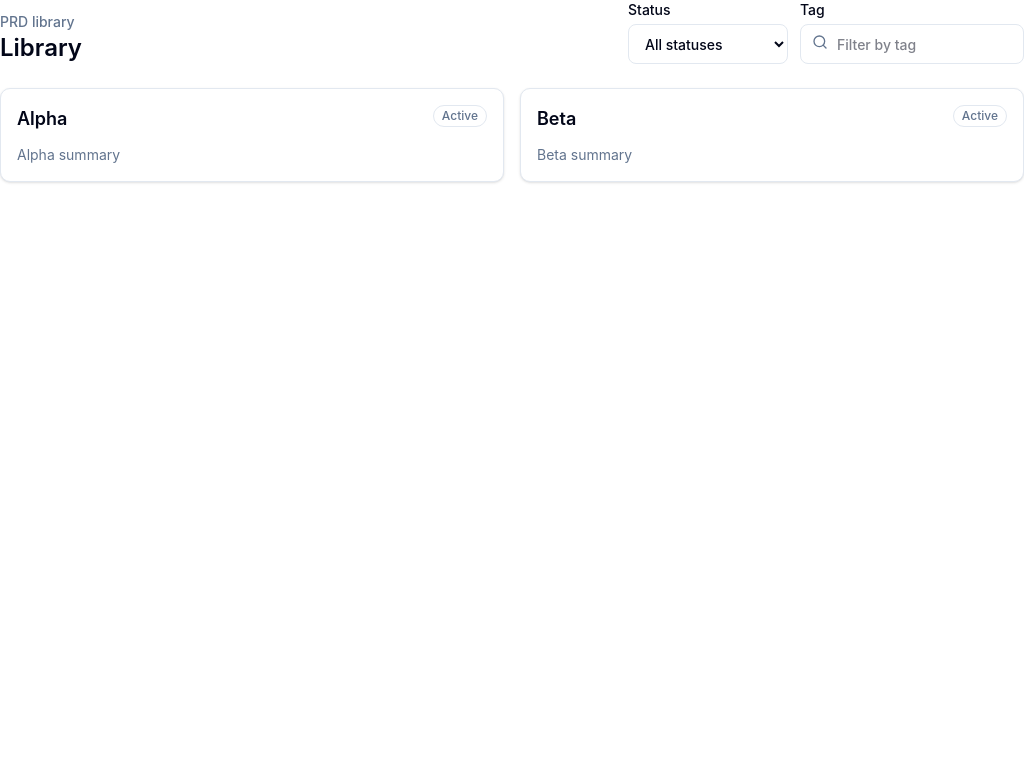
Test: LibraryPage › T-4 opens a fresh PRD drawer after switching selections
Click the button "Alpha".
click(42, 119)  # box x1=17 y1=105 x2=67 y2=133
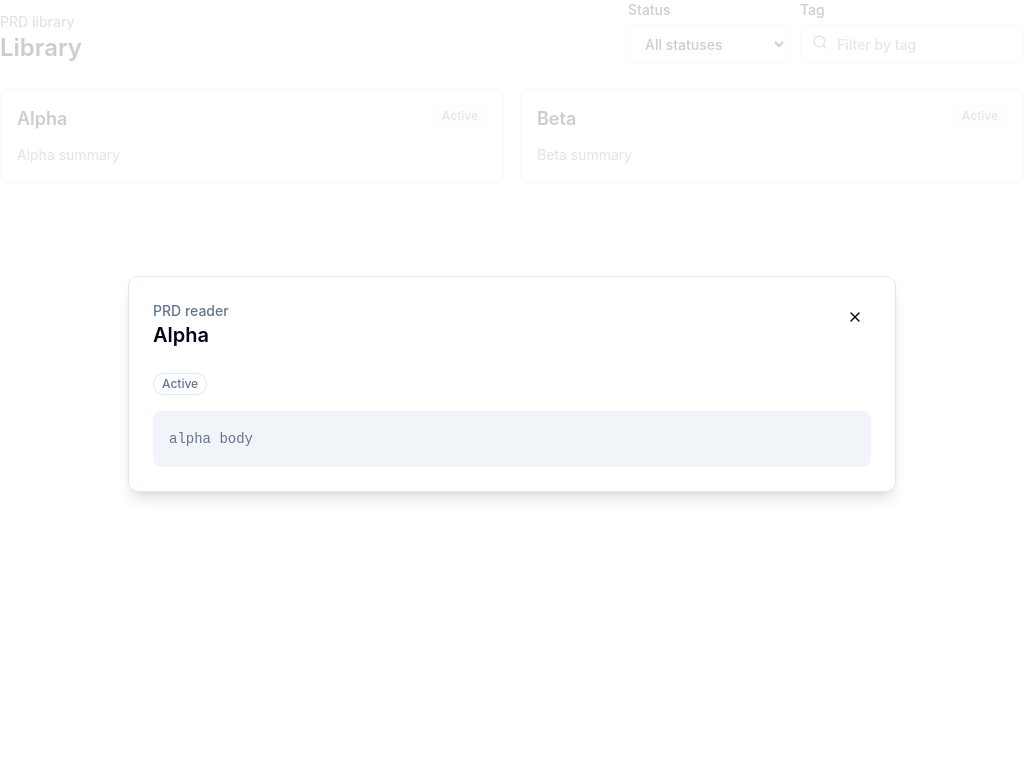
Check: the text "alpha body" is shown, box x1=153 y1=411 x2=871 y2=467
Click the button named "close prd reader".
click(855, 317)  # box x1=839 y1=301 x2=871 y2=333
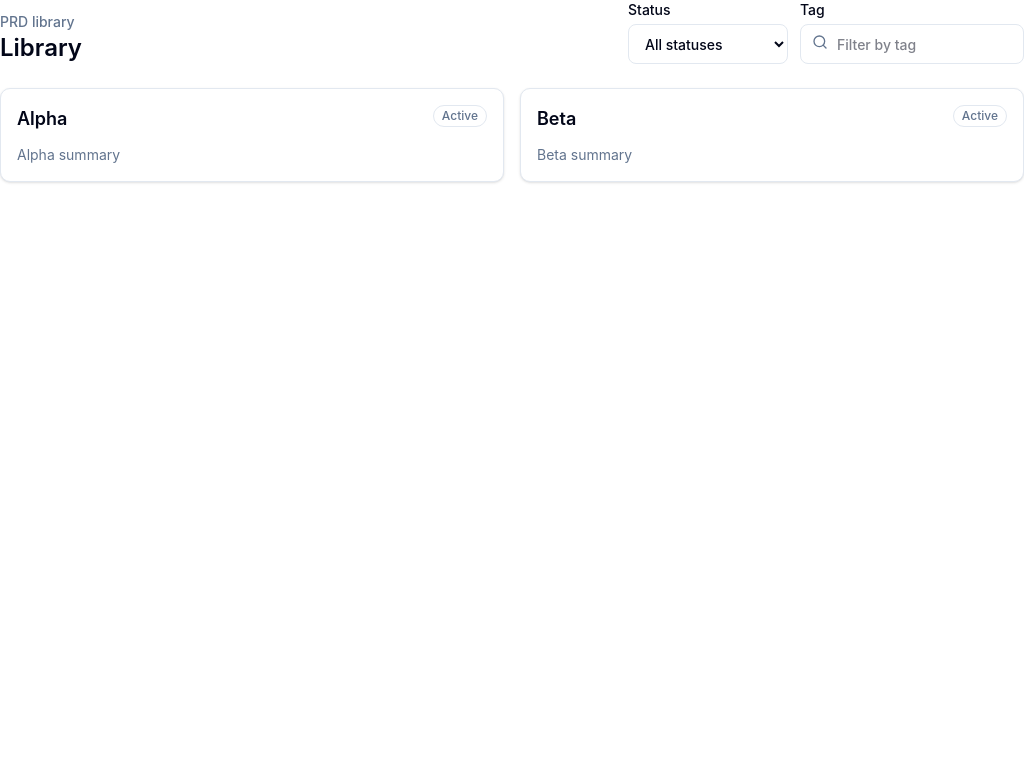
Click the button "Beta".
click(557, 119)  # box x1=537 y1=105 x2=576 y2=133
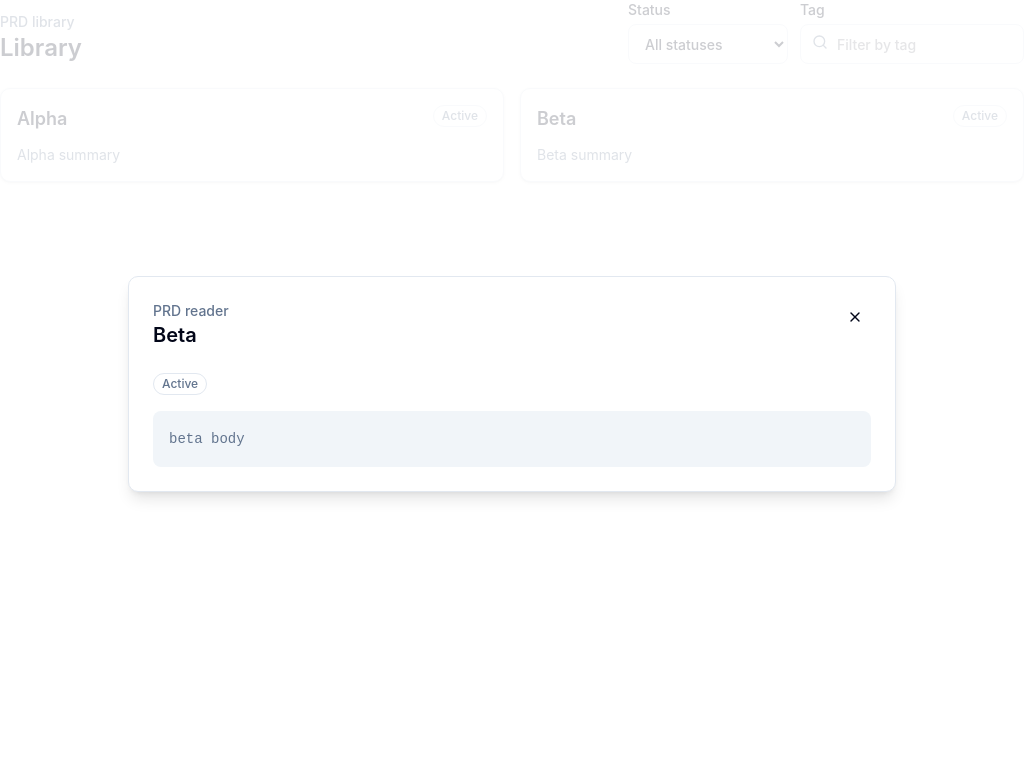
Check: the text "alpha body" is not shown
Check: the heading "Beta" is shown, box x1=153 y1=323 x2=197 y2=347
Check: the text "beta body" is shown, box x1=153 y1=411 x2=871 y2=467
